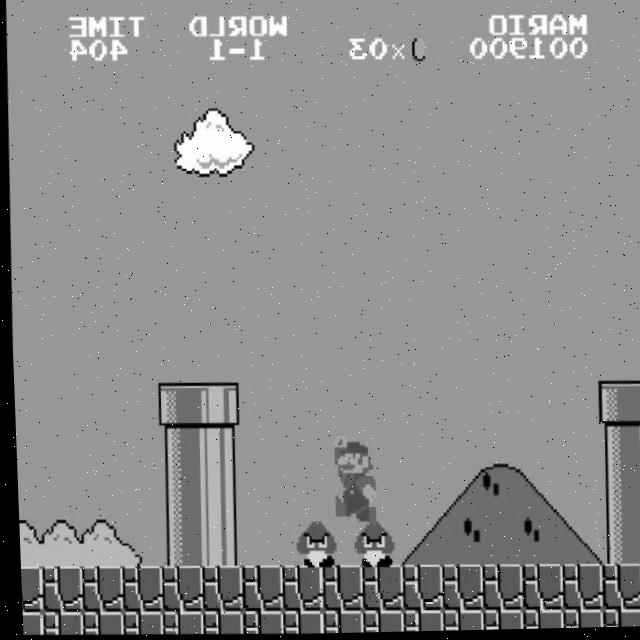0- big_mario: (329, 434, 377, 529)
14- pipe: (595, 519, 639, 567), (195, 519, 239, 567), (155, 519, 199, 567), (594, 428, 638, 475), (155, 474, 198, 522), (595, 474, 638, 521), (194, 428, 237, 475), (195, 474, 238, 521), (154, 428, 197, 475), (635, 429, 640, 474), (636, 474, 640, 521), (636, 520, 640, 566)
15- pipe_head: (594, 382, 637, 430), (194, 382, 237, 430), (154, 382, 197, 430), (634, 383, 640, 429)
17- undestructible_block: (75, 565, 119, 613), (596, 565, 639, 613), (556, 565, 599, 613), (516, 565, 559, 613), (476, 565, 519, 613), (436, 565, 479, 613), (396, 565, 439, 613), (356, 565, 399, 613), (316, 565, 359, 613), (276, 565, 319, 613), (236, 565, 279, 613), (196, 565, 239, 613), (156, 565, 199, 613), (116, 565, 159, 613), (36, 565, 79, 613), (16, 565, 40, 611), (317, 610, 359, 635), (237, 610, 279, 635), (157, 610, 199, 635), (37, 610, 78, 635), (357, 610, 399, 634), (277, 611, 319, 635), (197, 611, 239, 635), (117, 611, 159, 635), (77, 611, 119, 635), (437, 610, 479, 633), (477, 610, 519, 632), (397, 611, 439, 633), (557, 610, 599, 631), (597, 610, 639, 630), (517, 611, 559, 631), (18, 611, 38, 633), (636, 566, 640, 612), (637, 611, 640, 629)
8- goomba: (348, 519, 394, 570), (291, 519, 336, 570)
